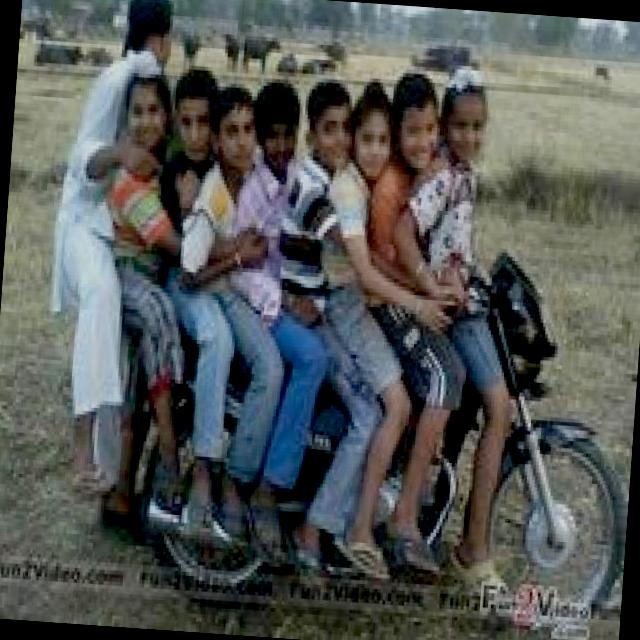motorcycle: (46, 220, 640, 633)
person: (41, 0, 230, 367), (324, 76, 434, 384), (230, 71, 336, 375), (150, 60, 254, 362), (100, 68, 210, 348), (282, 77, 371, 366), (369, 62, 464, 314), (417, 54, 508, 317), (192, 82, 274, 365)
rider_region: (24, 0, 640, 630)
